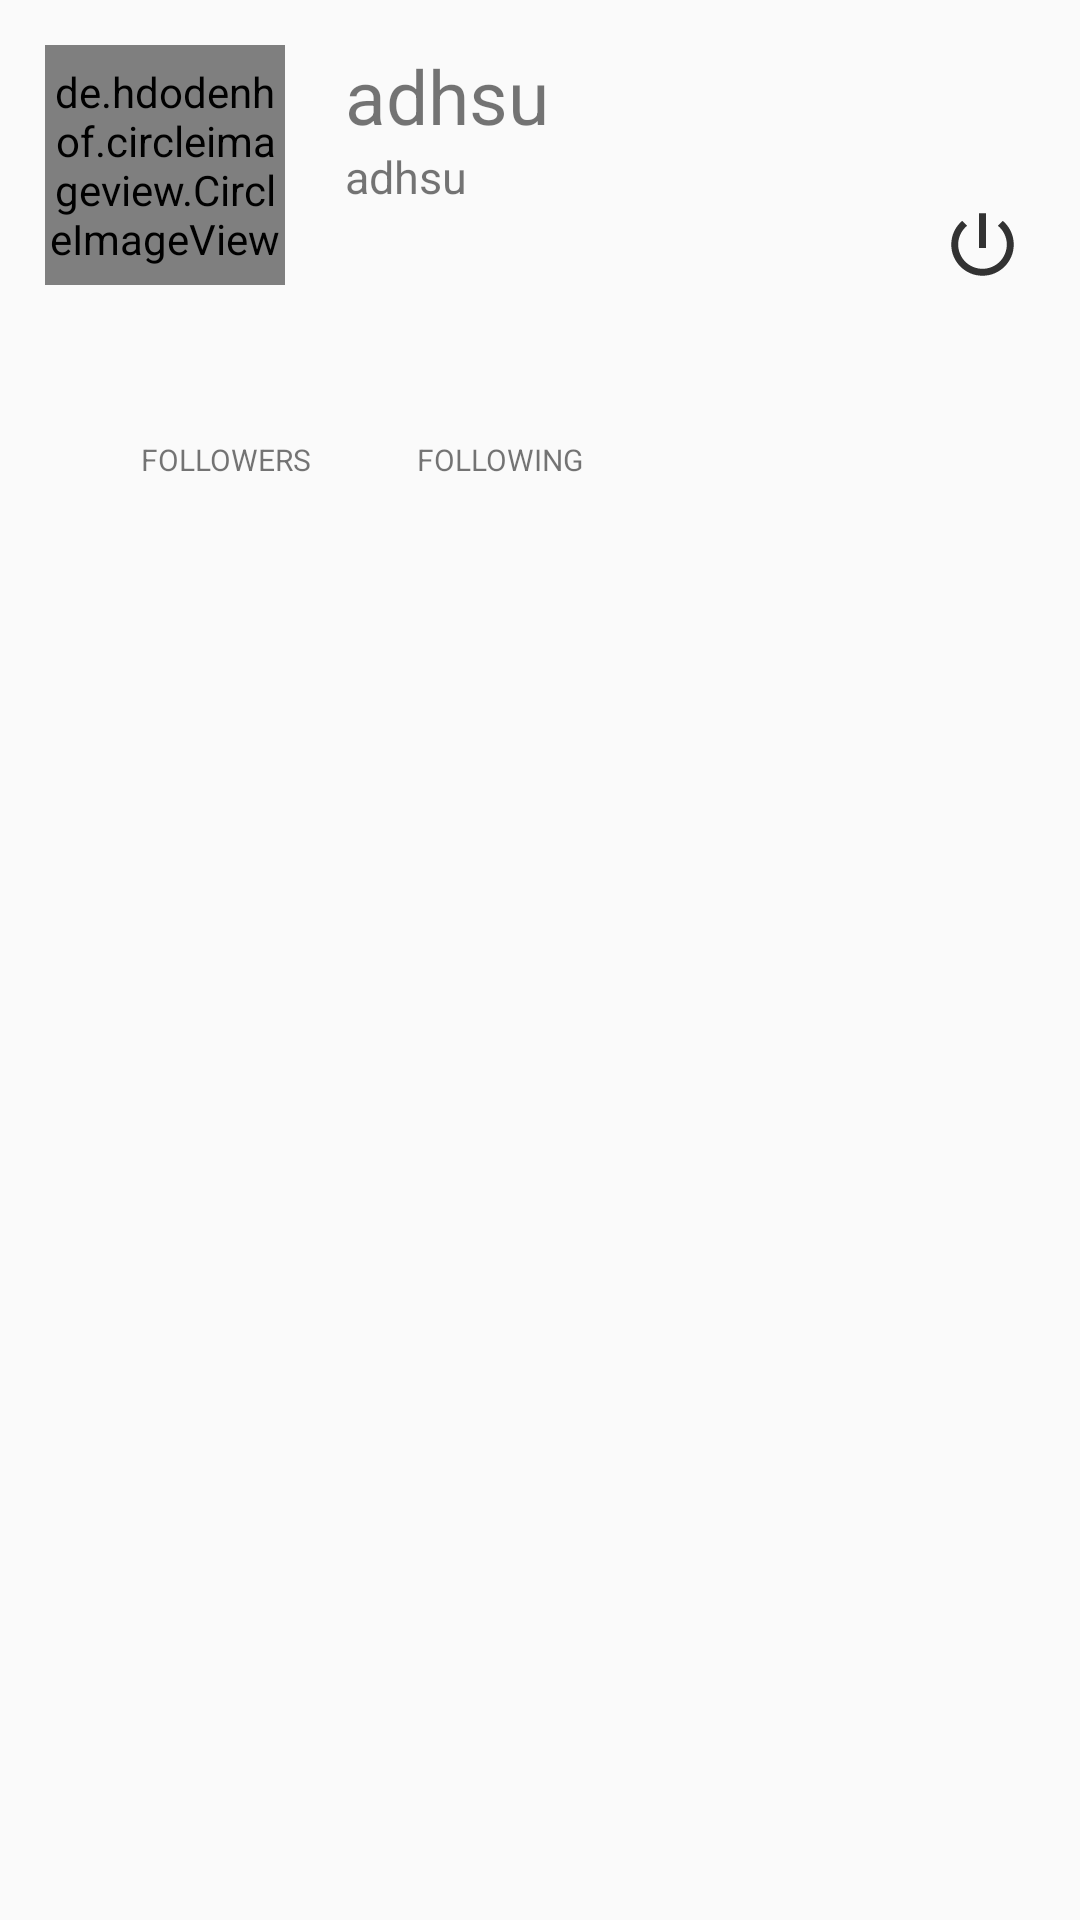

Screen size 1080*1920. Icon name, then its box in pixels as [left=x1, top=y1, right=x2, bottom=y2]:
power: [left=951, top=213, right=1014, bottom=276]
